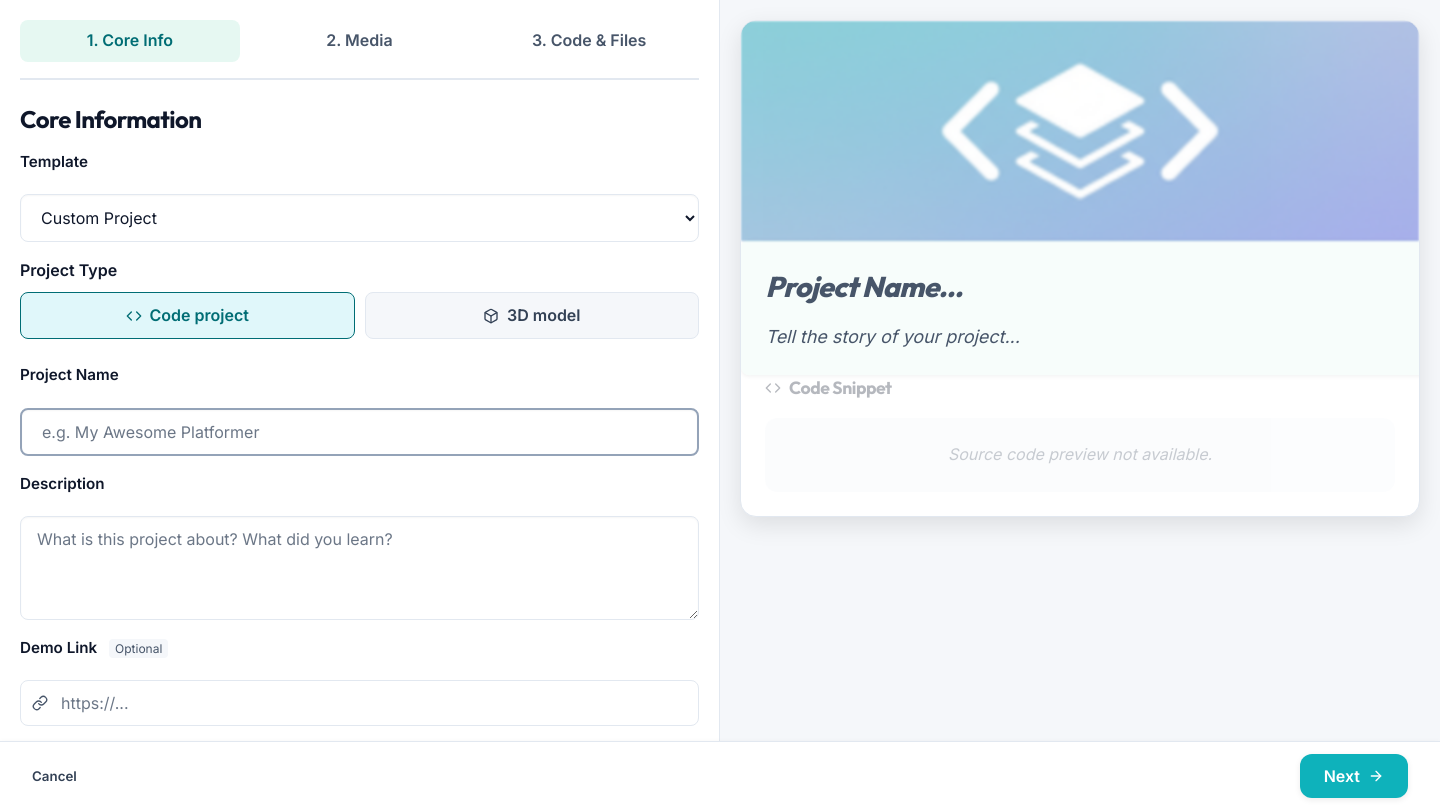
Test: ManageProject - project files and type › project type › shows a student the type a template fixes, as text
expect the heading "Core Information" is shown: met, box [20,104,201,134]
Select "Desk Lamp" in the dropdown labelled "Template" at (360, 218), box [20,194,699,242]
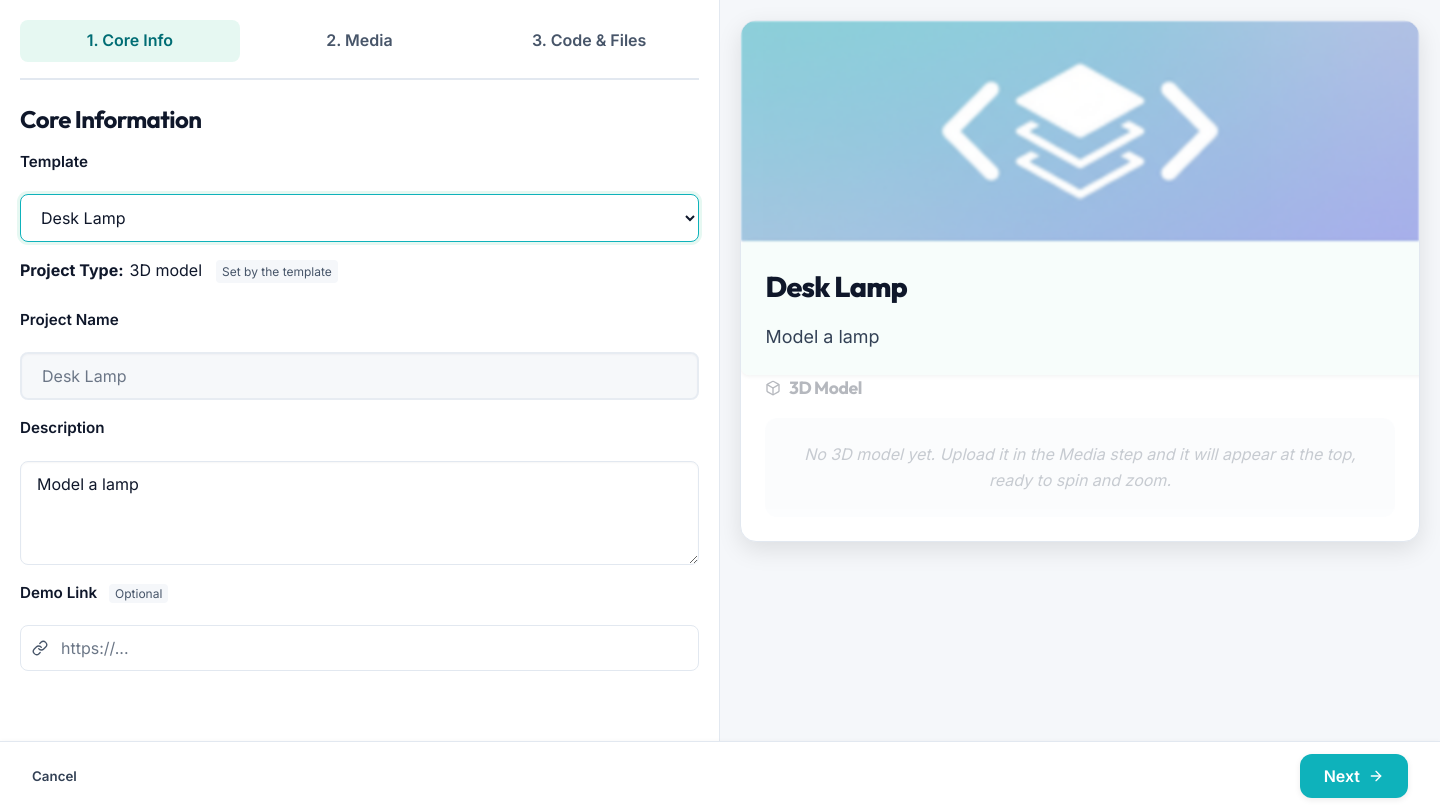
expect the radio button is gone: met
expect the text "Set by the template" shows "Project Type: 3D model": met, box [20,260,338,283]
Select "Maze" in the dropdown labelled "Template" at (360, 218), box [20,194,699,242]
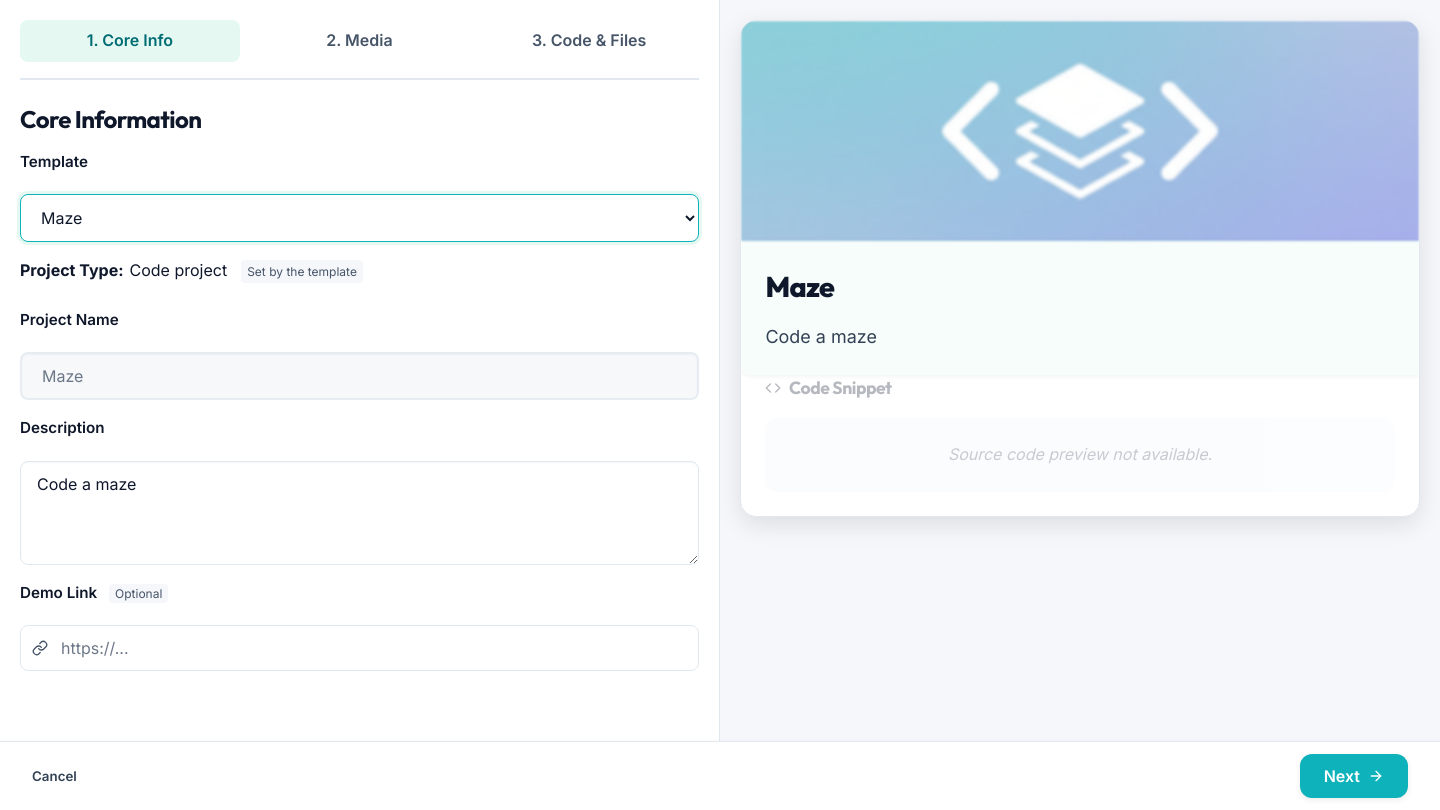
expect the text "Set by the template" shows "Project Type: Code project": met, box [20,260,363,283]
